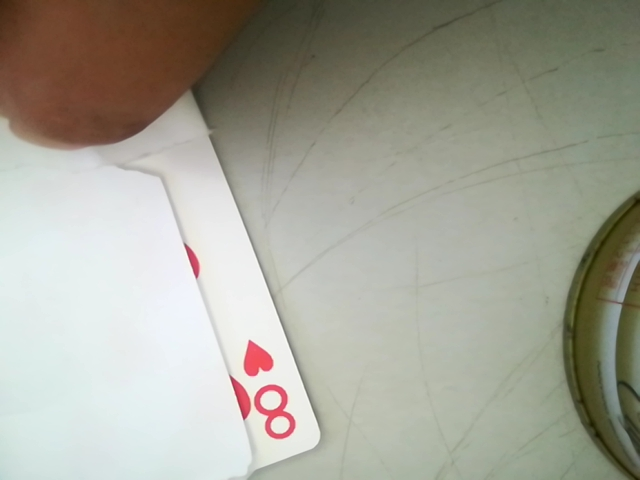hx 8: (210, 325, 304, 449)
